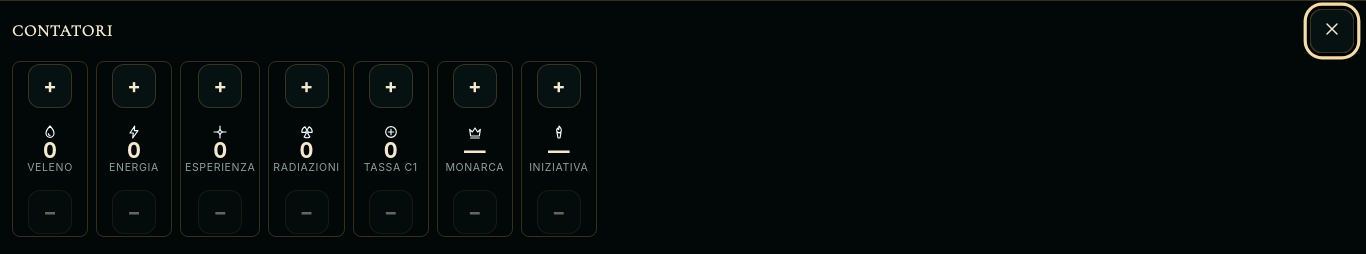
Test case: Contatori drawer (R2 §5) › shows Sì or — for Monarch and Initiative; − releases only for the holder
Check: the 1st text with test id "counter-value" reads "—", box [464, 137, 486, 163]
Check: the button named "Rilascia Monarca (non è di Giocatore 1)" is disabled, box [453, 190, 497, 234]
Click the button named "Prendi Monarca per Giocatore 1": (475, 86) [453, 64, 497, 108]
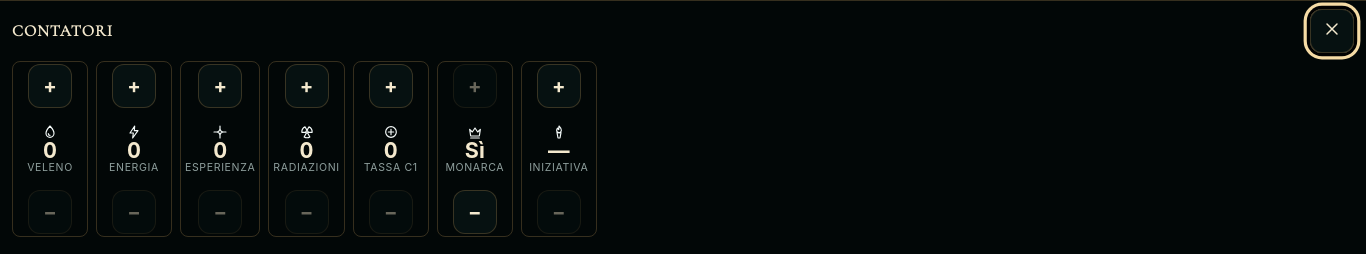
Check: the text with test id "counter-value" reads "Sì", box [465, 137, 485, 163]
Check: the button named "Prendi Monarca (è già di Giocatore 1)" is disabled, box [453, 64, 497, 108]
Click the button named "Rilascia Monarca di Giocatore 1": (475, 212) [453, 190, 497, 234]
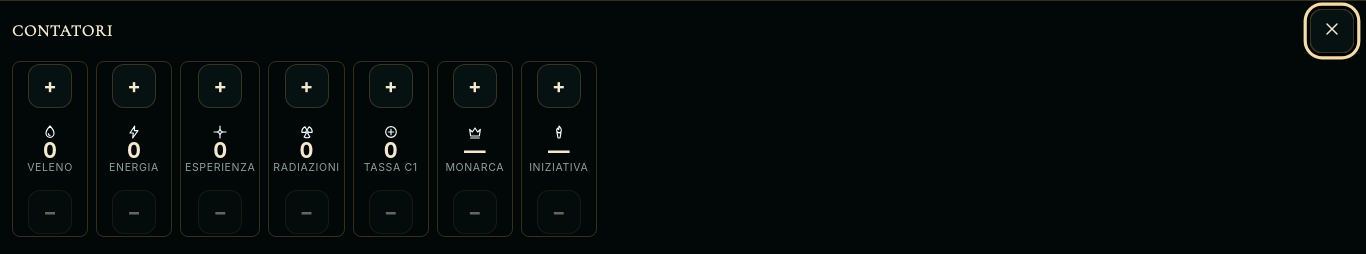
Check: the 1st text with test id "counter-value" reads "—", box [464, 137, 486, 163]
Click the button named "Prendi Iniziativa per Giocatore 1": (559, 86) [537, 64, 581, 108]
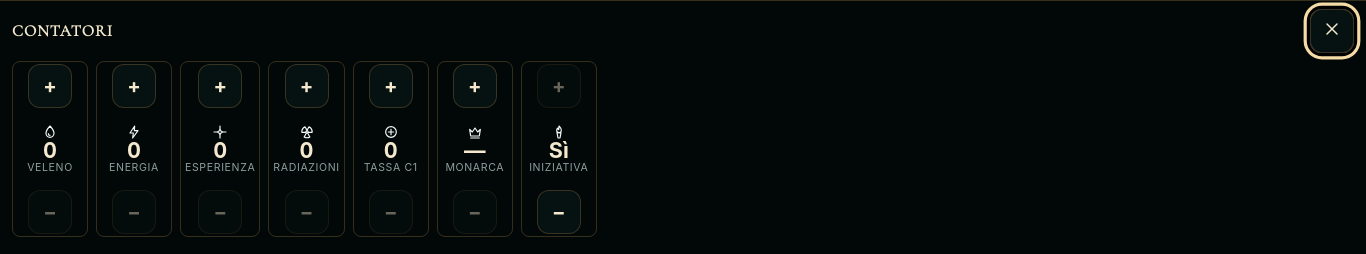
Check: the text with test id "counter-value" reads "Sì", box [549, 137, 569, 163]
